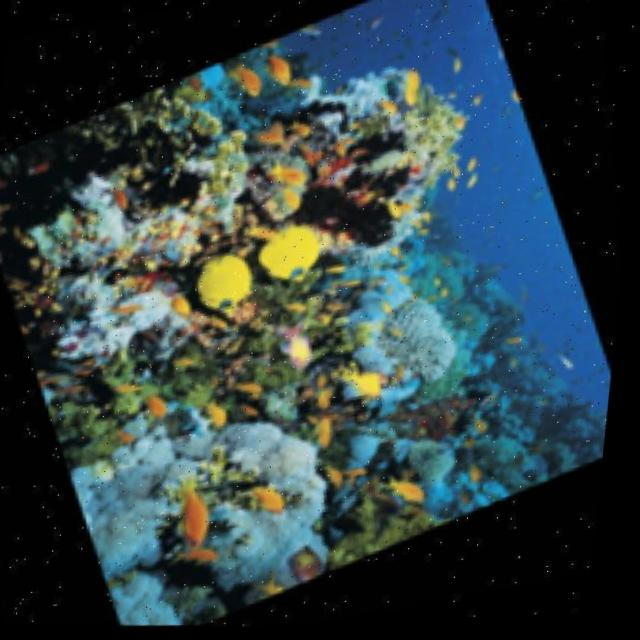Bleached Coral: (56, 367, 375, 626), (332, 269, 529, 417)
Healthy Coral: (204, 26, 532, 281)
